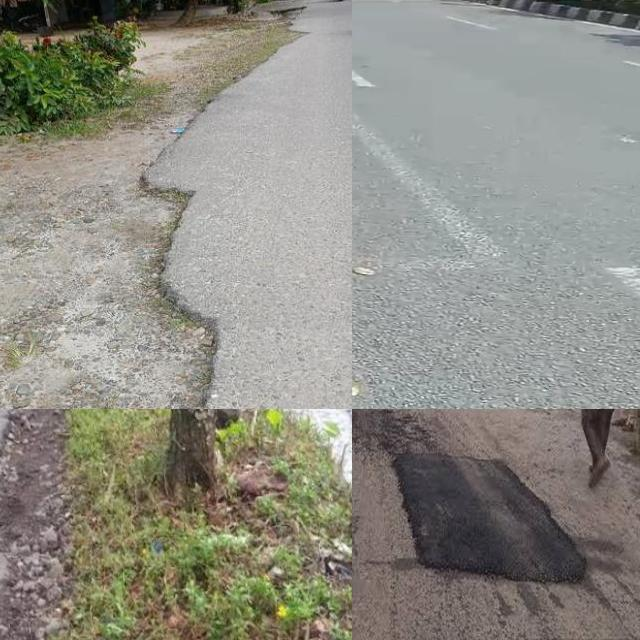Pinggir: (99, 158, 249, 409), (0, 409, 102, 640)
Sambungan: (393, 457, 586, 583)
